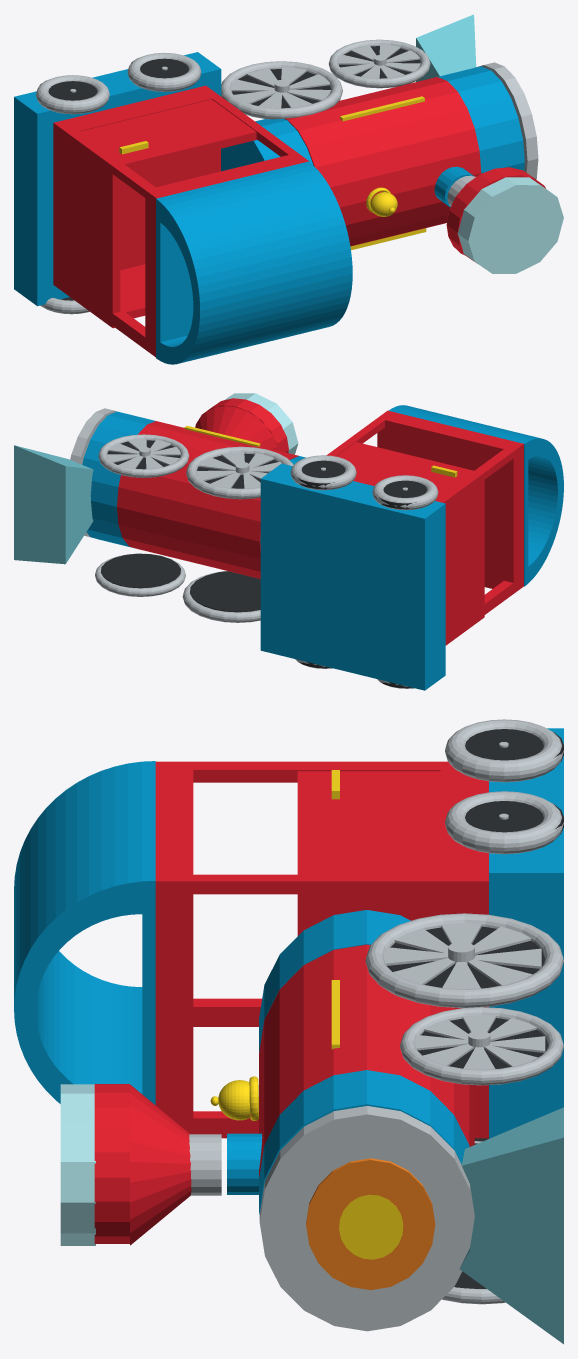
The model's file is tinker.obj.
3 renders of one model, top to bottom at view 1: azimuth 30°, elevation 25°; view 2: azimuth 150°, elevation 25°; view 3: azimuth 270°, elevation 25°, orthographic. The views are drawn at different scales.
Visible parts, largest first — view 1: group_0_15277357, group_0_40919, group_0_12568524, group_0_11593967, group_0_2829873, group_0_7720667, group_0_16768282; view 2: group_0_40919, group_0_15277357, group_0_12568524, group_0_7720667, group_0_2829873, group_0_11593967, group_0_16768282; view 3: group_0_15277357, group_0_40919, group_0_12568524, group_0_7720667, group_0_16089887, group_0_2829873, group_0_16768282, group_0_11593967.
Part boxes in pixels (x1,y1,x2,y2): group_0_15277357: (53,77,545,357); group_0_40919: (14,52,524,364); group_0_12568524: (36,39,538,314); group_0_11593967: (457,177,563,273); group_0_2829873: (37,46,420,300); group_0_7720667: (416,14,476,81); group_0_16768282: (119,96,426,250); group_0_40919: (82,405,563,690); group_0_15277357: (117,398,523,645); group_0_12568524: (70,408,438,688); group_0_7720667: (14,445,93,564); group_0_2829873: (100,440,426,688); group_0_11593967: (225,393,298,454); group_0_16768282: (184,425,457,477); group_0_15277357: (94,761,488,1245); group_0_40919: (14,728,563,1214); group_0_12568524: (189,719,563,1331); group_0_7720667: (459,1107,563,1344); group_0_16089887: (306,1158,435,1290); group_0_2829873: (387,729,563,1288); group_0_16768282: (210,770,403,1259); group_0_11593967: (60,1084,95,1245).
Bounding box in the file's own units: 60.3 × 26.55 × 38.8.
